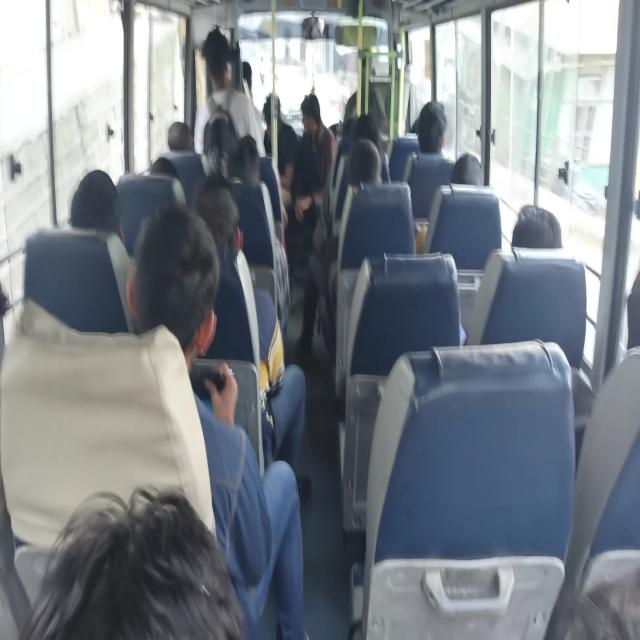person: (54, 464, 199, 640), (138, 212, 208, 338), (600, 246, 640, 390), (71, 170, 129, 248), (504, 191, 548, 273), (447, 145, 494, 202), (200, 35, 238, 99), (202, 170, 240, 233), (301, 86, 339, 147), (416, 100, 449, 158), (357, 149, 395, 197), (168, 111, 200, 158), (150, 150, 180, 193), (228, 149, 258, 188), (265, 85, 288, 128), (230, 132, 261, 160), (239, 67, 262, 101), (342, 121, 368, 143), (405, 111, 426, 138), (359, 113, 374, 141)
